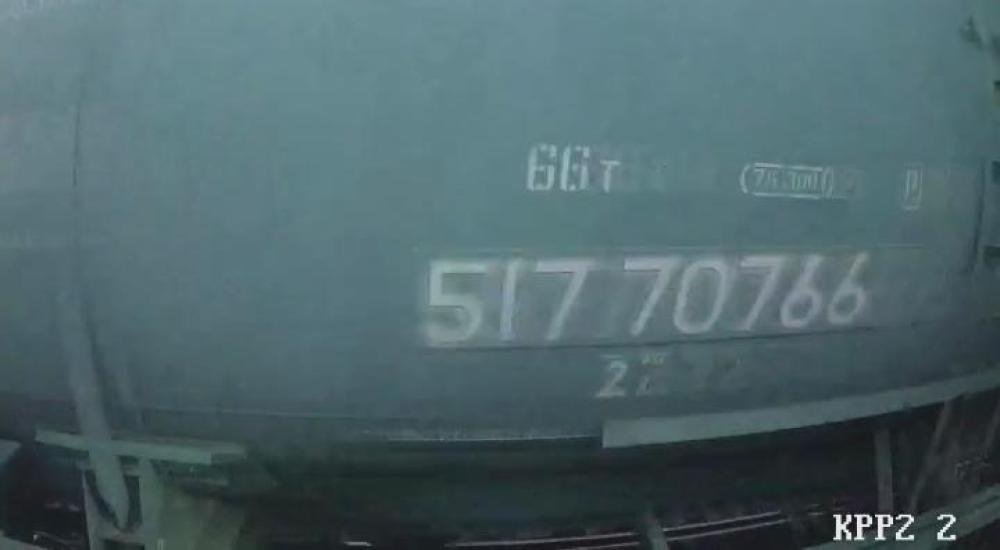Wagon-number: (418, 252, 875, 348)
